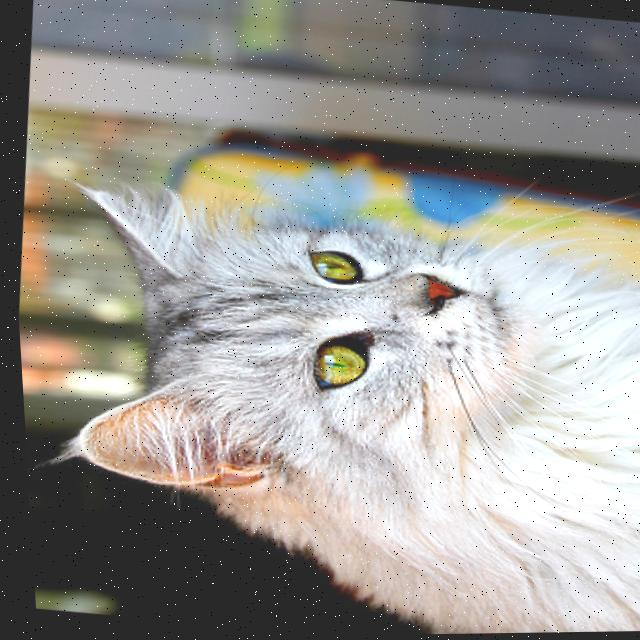Maine Coon: (18, 171, 640, 640)
